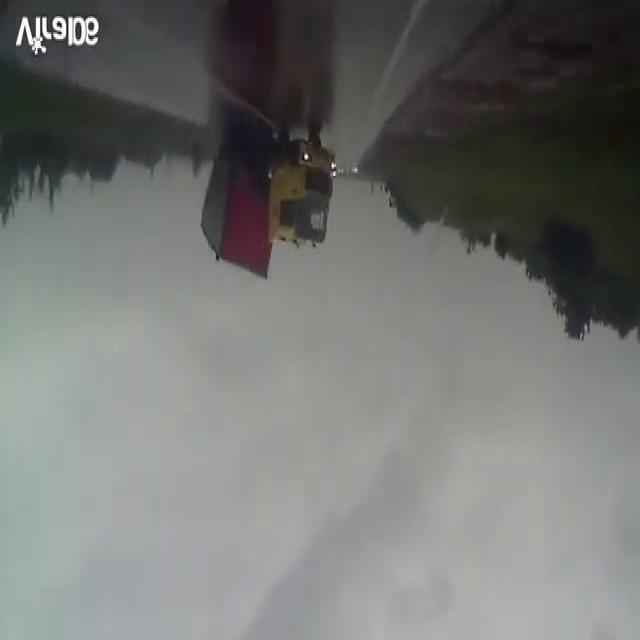severe: (196, 116, 338, 288)
